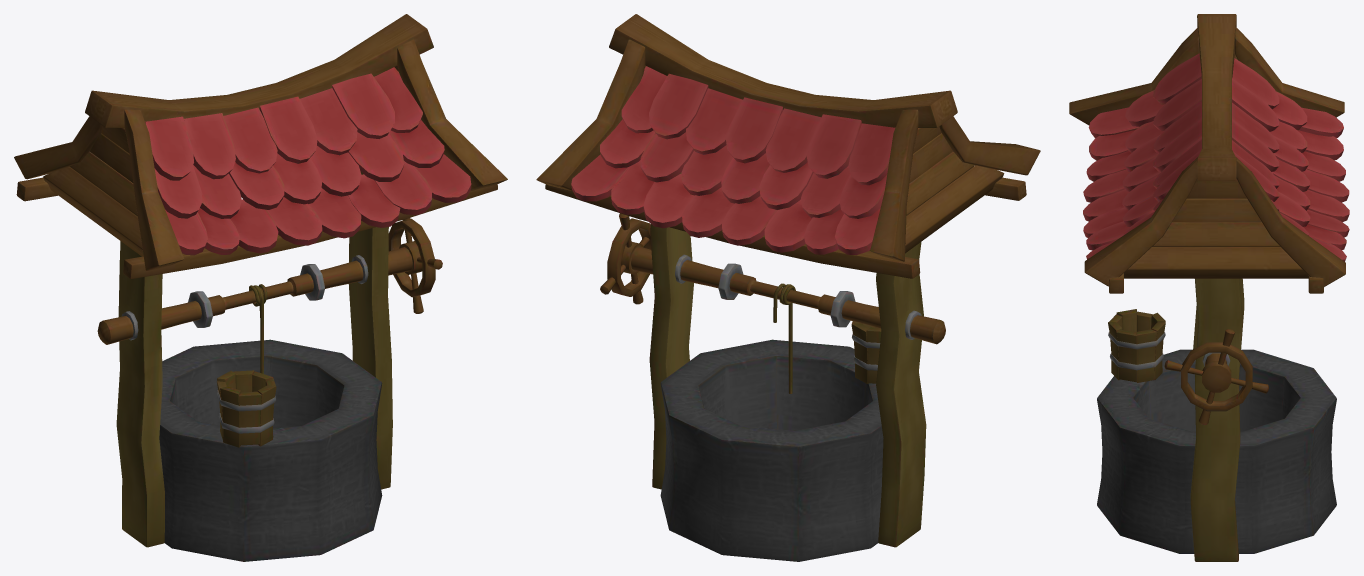
File: Waterwell.fbx
The picture shows the model from 3 angles, left to right: view 1: azimuth 30°, elevation 25°; view 2: azimuth 150°, elevation 25°; view 3: azimuth 270°, elevation 25°; orthographic projection. The views are drawn at different scales.
Parts seen in each view (by area): view 1: well69_low, well18_low, well67_low, well68_low, well07_low, well66_low, well64_low, well10_low, well57_low, well09_low, well59_low, well61_low (+29 smaller); view 2: well69_low, well18_low, well67_low, well68_low, well07_low, well63_low, well65_low, well10_low, well08_low, well35_low, well66_low, well37_low (+27 smaller); view 3: well69_low, well68_low, well67_low, well14_low, well64_low, well63_low, well15_low, well66_low, well65_low, well16_low, well06_low, well62_low (+46 smaller).
Part boxes in pixels (left/top/right/bottom): well69_low: left=159, top=339, right=382, bottom=561; well18_low: left=116, top=241, right=164, bottom=547; well67_low: left=85, top=14, right=433, bottom=127; well68_low: left=348, top=171, right=392, bottom=489; well07_low: left=97, top=241, right=422, bottom=344; well66_low: left=124, top=109, right=184, bottom=270; well64_low: left=397, top=39, right=507, bottom=190; well10_low: left=43, top=167, right=143, bottom=256; well57_low: left=332, top=73, right=394, bottom=138; well09_low: left=123, top=184, right=497, bottom=278; well59_low: left=259, top=96, right=317, bottom=163; well61_low: left=184, top=113, right=235, bottom=179; well69_low: left=660, top=339, right=883, bottom=561; well18_low: left=876, top=242, right=926, bottom=547; well67_low: left=609, top=14, right=957, bottom=127; well68_low: left=649, top=172, right=693, bottom=489; well07_low: left=621, top=242, right=945, bottom=344; well63_low: left=536, top=39, right=645, bottom=190; well65_low: left=870, top=109, right=918, bottom=261; well10_low: left=905, top=165, right=1004, bottom=252; well08_low: left=545, top=184, right=920, bottom=278; well35_low: left=649, top=73, right=708, bottom=139; well66_low: left=939, top=116, right=1040, bottom=175; well37_low: left=726, top=97, right=783, bottom=163; well69_low: left=1097, top=349, right=1336, bottom=553; well68_low: left=1190, top=278, right=1242, bottom=561; well67_low: left=1197, top=14, right=1236, bottom=180; well14_low: left=1124, top=247, right=1308, bottom=278; well64_low: left=1084, top=157, right=1197, bottom=286; well63_low: left=1236, top=157, right=1345, bottom=286; well15_low: left=1152, top=222, right=1280, bottom=246; well66_low: left=1069, top=27, right=1198, bottom=125; well65_low: left=1235, top=27, right=1344, bottom=117; well16_low: left=1172, top=198, right=1261, bottom=222; well06_low: left=1181, top=342, right=1252, bottom=411; well62_low: left=1153, top=53, right=1201, bottom=104.
Size of the model in its own units: 10441 by 12163 by 7335.
Materials: 1 (1 with a texture image).
